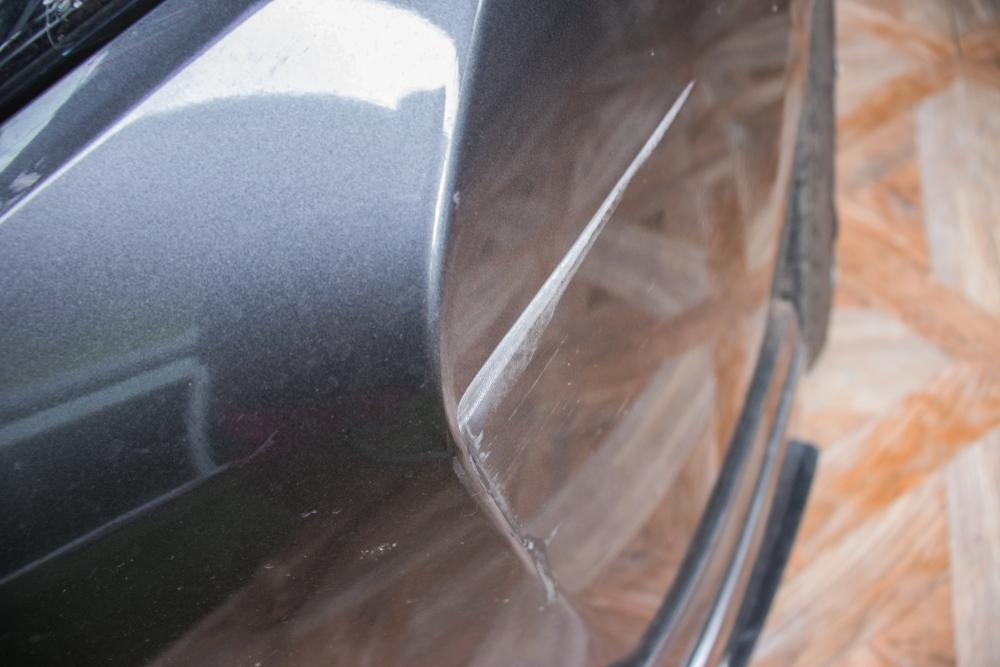scratch: (442, 76, 703, 616)
